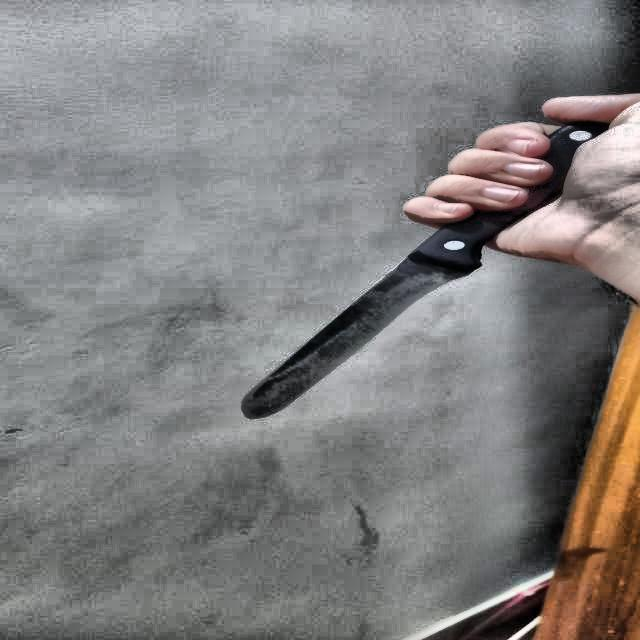knife: (243, 125, 609, 417)
